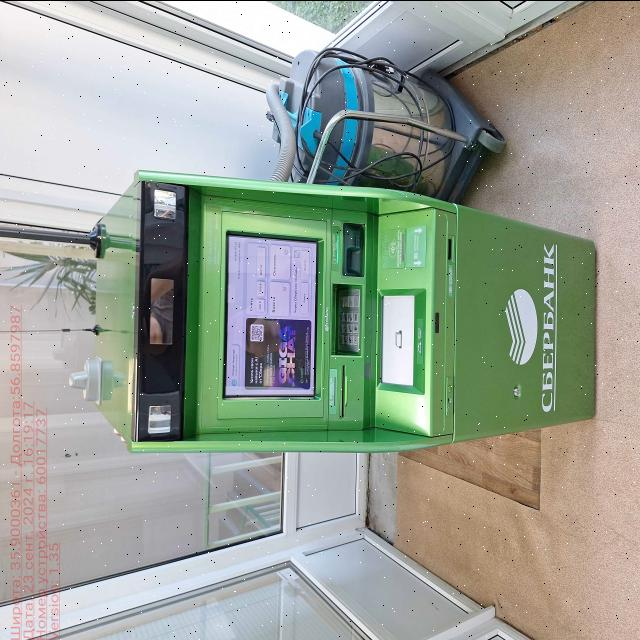bank: (91, 169, 599, 459)
